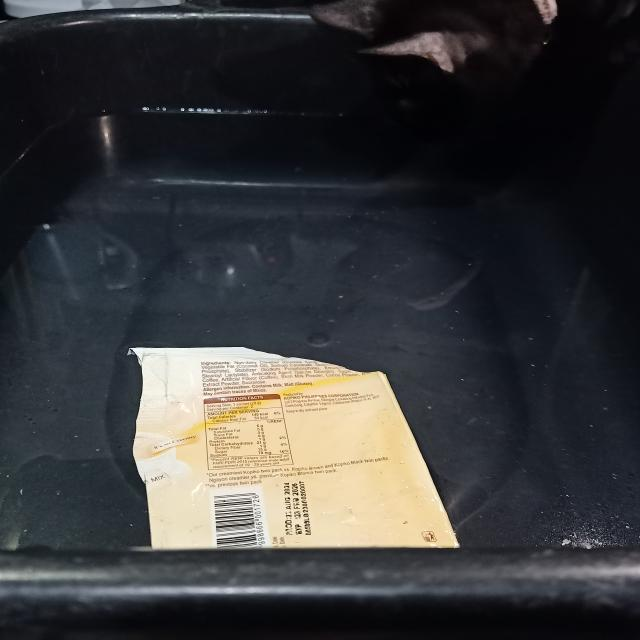Plastic Wrapper: (128, 348, 459, 549)
